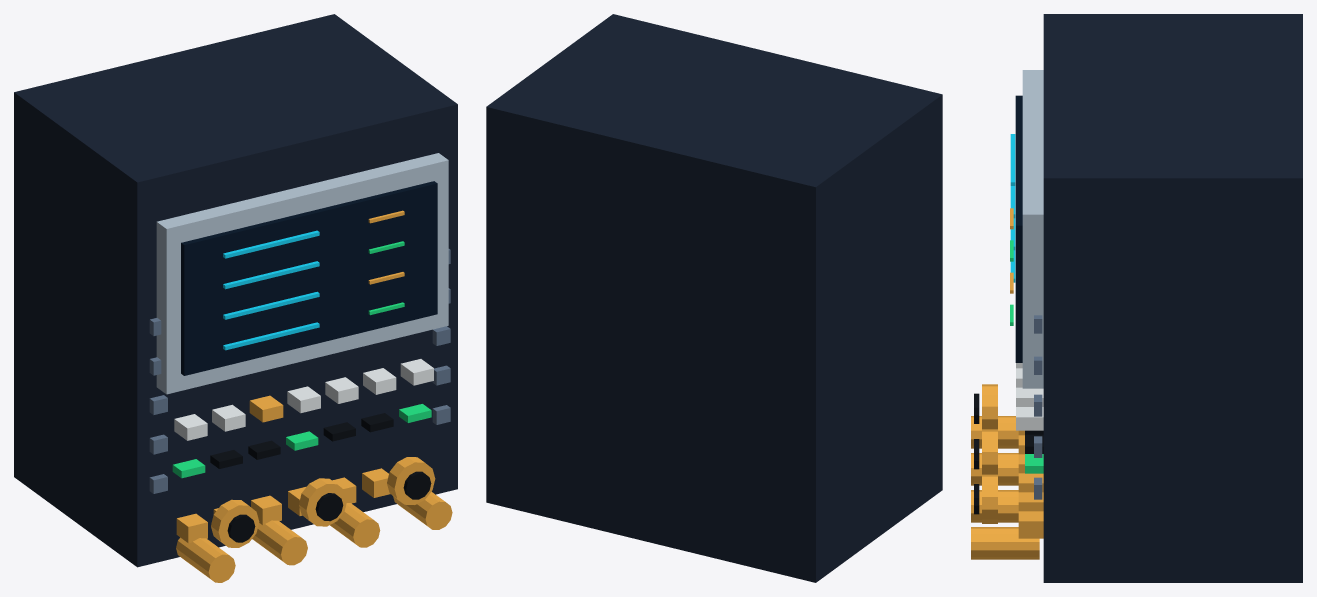
Rendered from 60_L90_XenonMassFlowSensorArray.fbx.
3 views of the same model, side by side, from view 1: azimuth 30°, elevation 25°; view 2: azimuth 150°, elevation 25°; view 3: azimuth 270°, elevation 25° (orthographic). The views are drawn at different scales.
Visible parts, largest first — view 1: L90_XenonMassFlowSensorArray, L90_XenonMassFlowSensorArray_Part_0011, L90_XenonMassFlowSensorArray_Part_0009, L90_XenonMassFlowSensorArray_Part_0013, L90_XenonMassFlowSensorArray_Part_0010, L90_XenonMassFlowSensorArray_Part_0014, L90_XenonMassFlowSensorArray_Part_0012; view 2: L90_XenonMassFlowSensorArray; view 3: L90_XenonMassFlowSensorArray, L90_XenonMassFlowSensorArray_Part_0013, L90_XenonMassFlowSensorArray_Part_0009, L90_XenonMassFlowSensorArray_Part_0011.
Part boxes in pixels (x1,y1,x2,y2): L90_XenonMassFlowSensorArray: [14, 14, 457, 582]; L90_XenonMassFlowSensorArray_Part_0011: [299, 478, 347, 526]; L90_XenonMassFlowSensorArray_Part_0009: [211, 499, 259, 547]; L90_XenonMassFlowSensorArray_Part_0013: [387, 457, 435, 504]; L90_XenonMassFlowSensorArray_Part_0010: [227, 514, 255, 542]; L90_XenonMassFlowSensorArray_Part_0014: [403, 471, 431, 499]; L90_XenonMassFlowSensorArray_Part_0012: [315, 493, 343, 521]; L90_XenonMassFlowSensorArray: [486, 14, 942, 582]; L90_XenonMassFlowSensorArray: [971, 14, 1302, 582]; L90_XenonMassFlowSensorArray_Part_0013: [982, 474, 997, 523]; L90_XenonMassFlowSensorArray_Part_0009: [982, 384, 997, 429]; L90_XenonMassFlowSensorArray_Part_0011: [982, 429, 997, 474].
Size of the model in its own units: 102 by 118 by 87.
